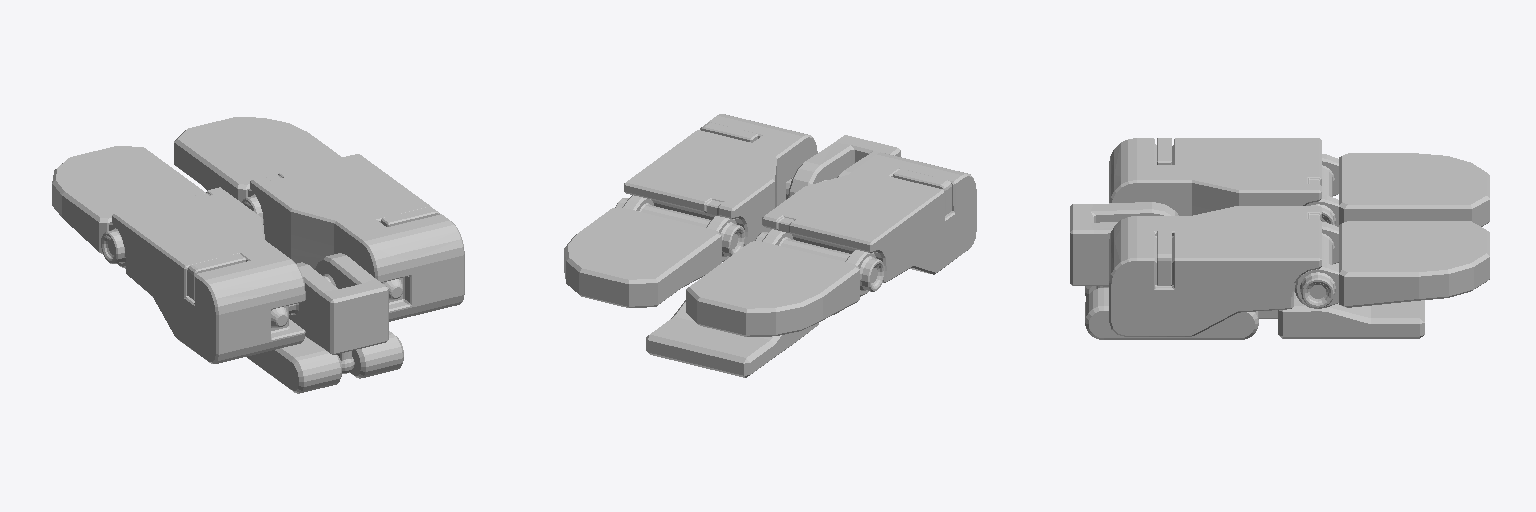
Rendered from Player_hand.obj.
3 views of the same model, side by side, from view 1: azimuth 30°, elevation 25°; view 2: azimuth 150°, elevation 25°; view 3: azimuth 270°, elevation 25° (orthographic).
Parts seen in each view (by area): view 1: Player_hand:Low_Hand2 Player_hand:group2_lp Player_hand:polySurf, Player_hand:Low_Hand2 Player_hand:group1_lp Player_hand:polySurf, Player_hand:Low_Hand2 Player_hand:group3_lp Player_hand:polySurf; view 2: Player_hand:Low_Hand2 Player_hand:group1_lp Player_hand:polySurf, Player_hand:Low_Hand2 Player_hand:group2_lp Player_hand:polySurf, Player_hand:Low_Hand2 Player_hand:group3_lp Player_hand:polySurf; view 3: Player_hand:Low_Hand2 Player_hand:group2_lp Player_hand:polySurf, Player_hand:Low_Hand2 Player_hand:group1_lp Player_hand:polySurf, Player_hand:Low_Hand2 Player_hand:group3_lp Player_hand:polySurf.
Boxes of the visible parts, box(x1,y1,x2,y2) form: Player_hand:Low_Hand2 Player_hand:group2_lp Player_hand:polySurf: box(112, 154, 464, 373); Player_hand:Low_Hand2 Player_hand:group1_lp Player_hand:polySurf: box(52, 117, 439, 393); Player_hand:Low_Hand2 Player_hand:group3_lp Player_hand:polySurf: box(101, 189, 263, 268); Player_hand:Low_Hand2 Player_hand:group1_lp Player_hand:polySurf: box(564, 122, 951, 377); Player_hand:Low_Hand2 Player_hand:group2_lp Player_hand:polySurf: box(624, 114, 976, 282); Player_hand:Low_Hand2 Player_hand:group3_lp Player_hand:polySurf: box(615, 195, 884, 295); Player_hand:Low_Hand2 Player_hand:group2_lp Player_hand:polySurf: box(1096, 138, 1321, 336); Player_hand:Low_Hand2 Player_hand:group1_lp Player_hand:polySurf: box(1070, 138, 1489, 339); Player_hand:Low_Hand2 Player_hand:group3_lp Player_hand:polySurf: box(1294, 154, 1338, 308).
Size of the model in its own units: 0.1886 by 0.0845 by 0.2676.